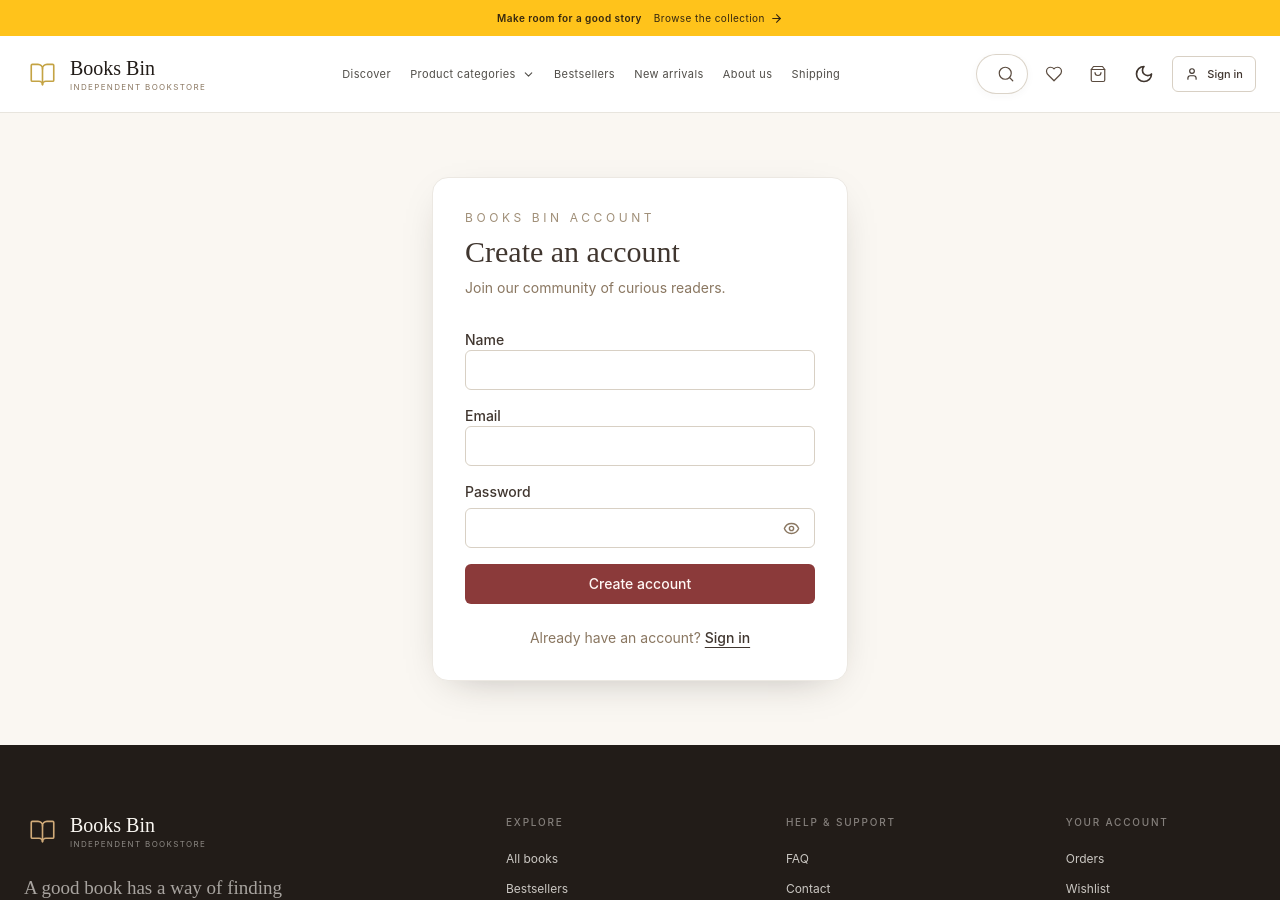
it: account registration and sign-in screens › does not carry registration verification state into the sign-in page
Expected: the heading "Create an account" is shown, [465, 235, 680, 268]
Type "Reader One" into the field labelled "Name" at (640, 370), box [465, 350, 815, 390]
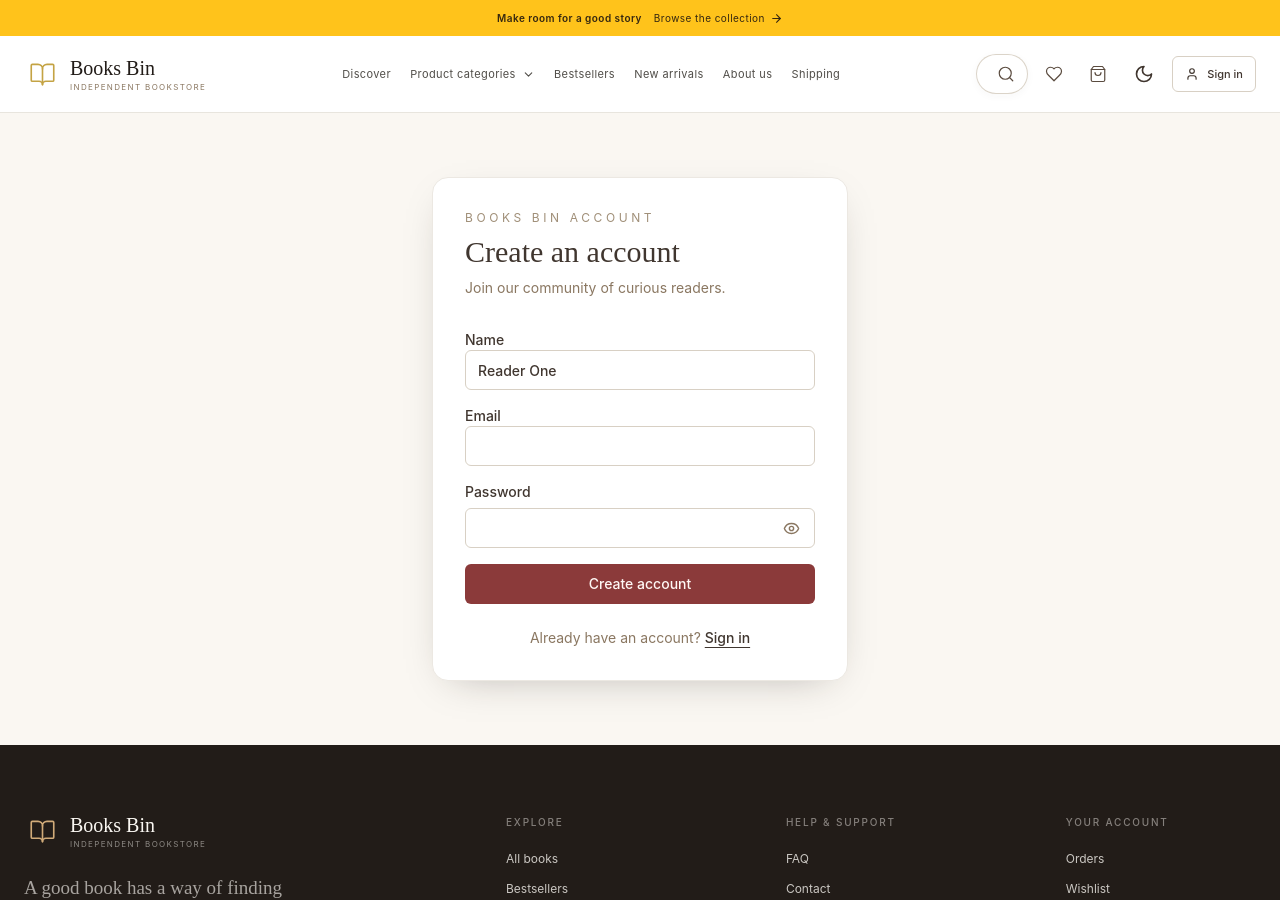
Type "reader@example.com" into the field labelled "Email" at (640, 446), box [465, 426, 815, 466]
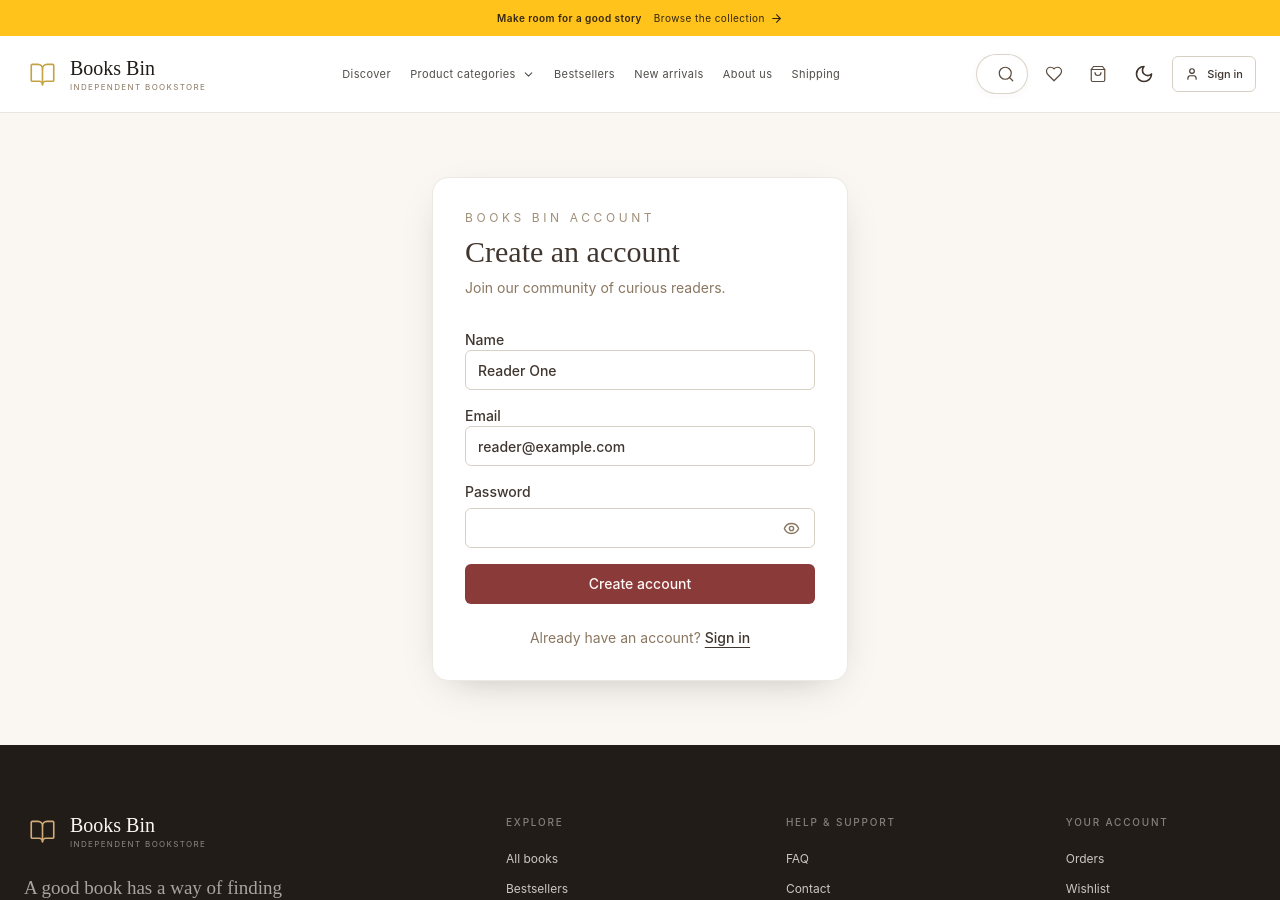
Type "reader-password" into the password field labelled "Password" at (640, 528), box [465, 508, 815, 548]
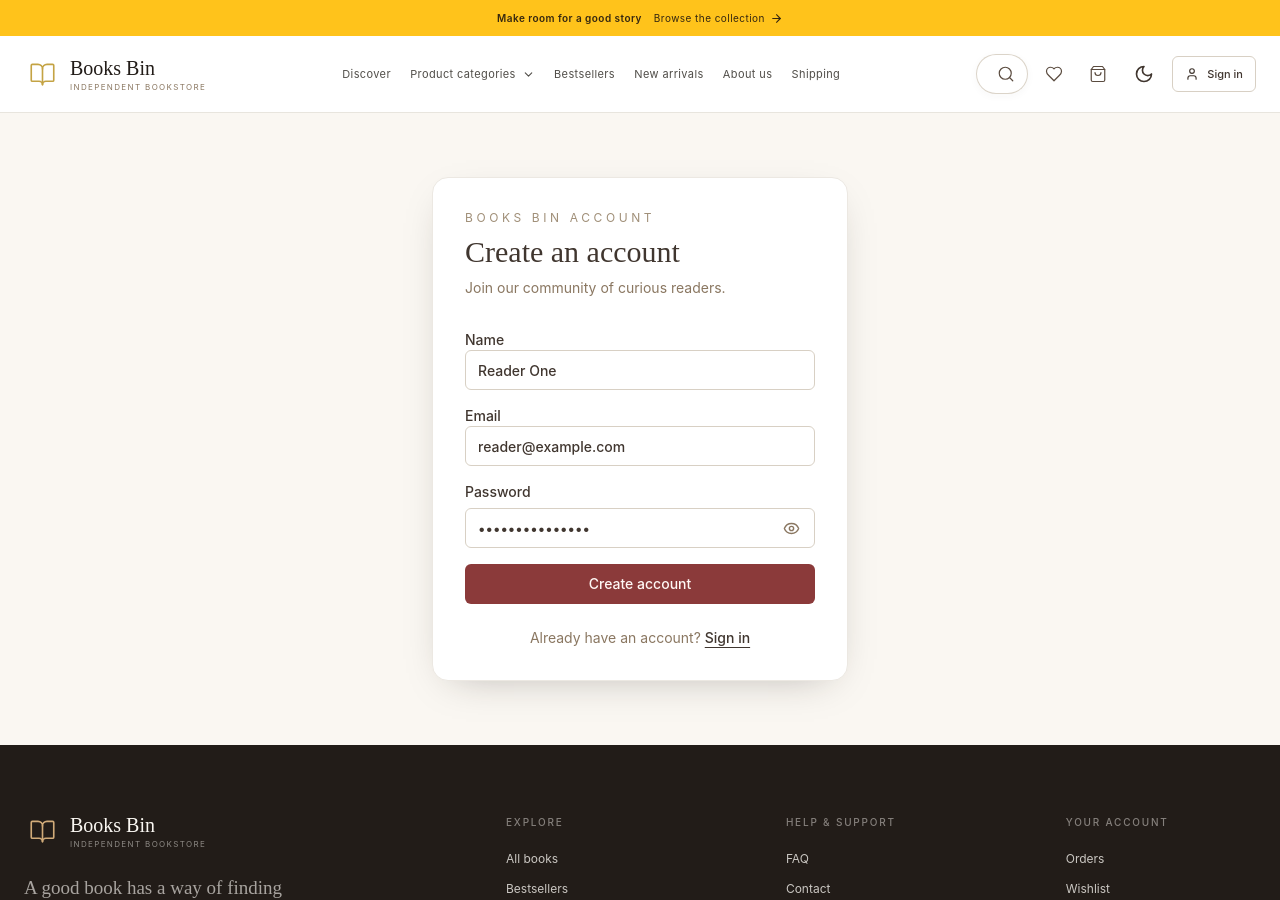
Click the button "Create account" at (640, 584), box [465, 564, 815, 604]
(page scrolled)
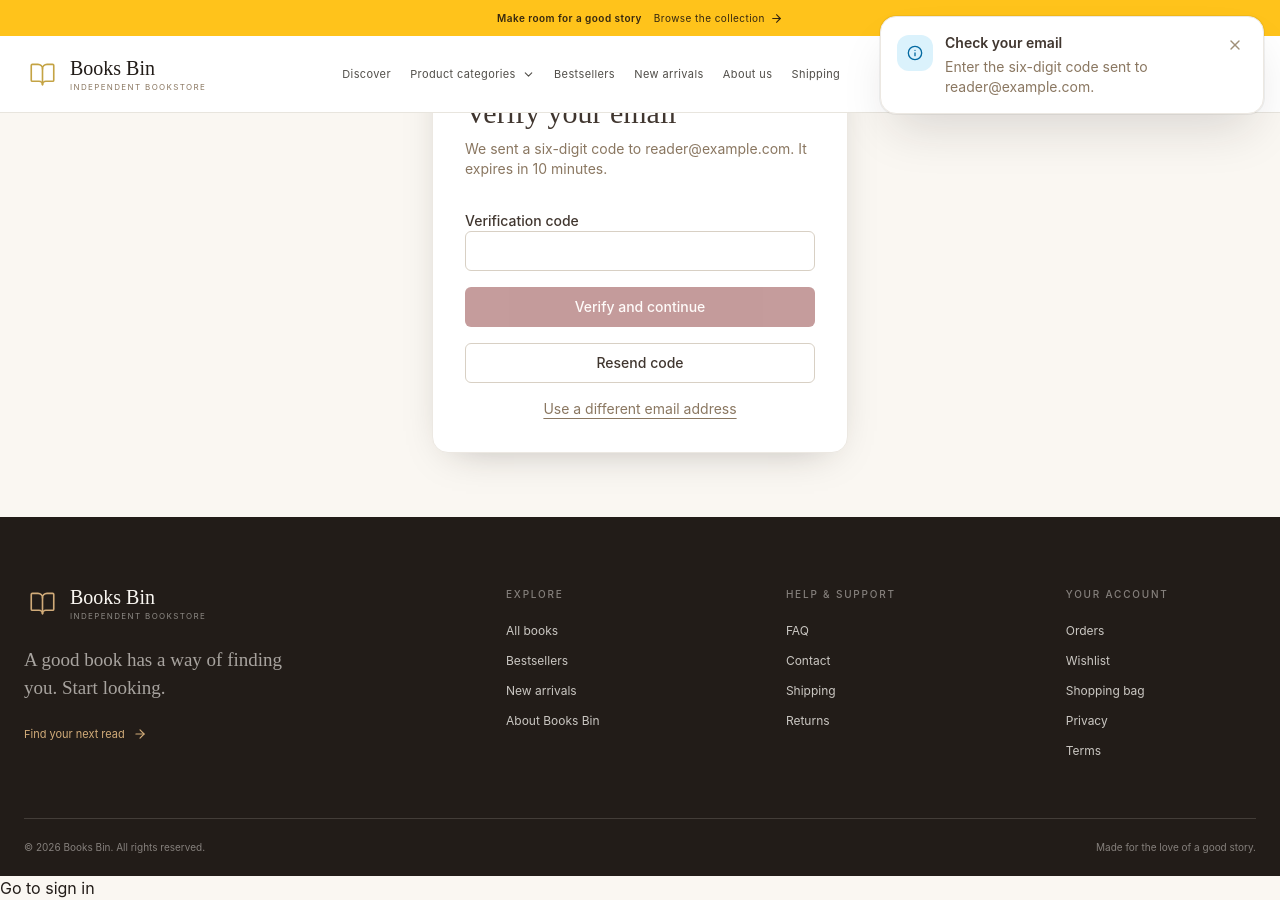
Expected: the heading "Verify your email" is shown, [465, 96, 677, 129]
Click the link "Go to sign in" at (47, 888), box [0, 878, 95, 898]
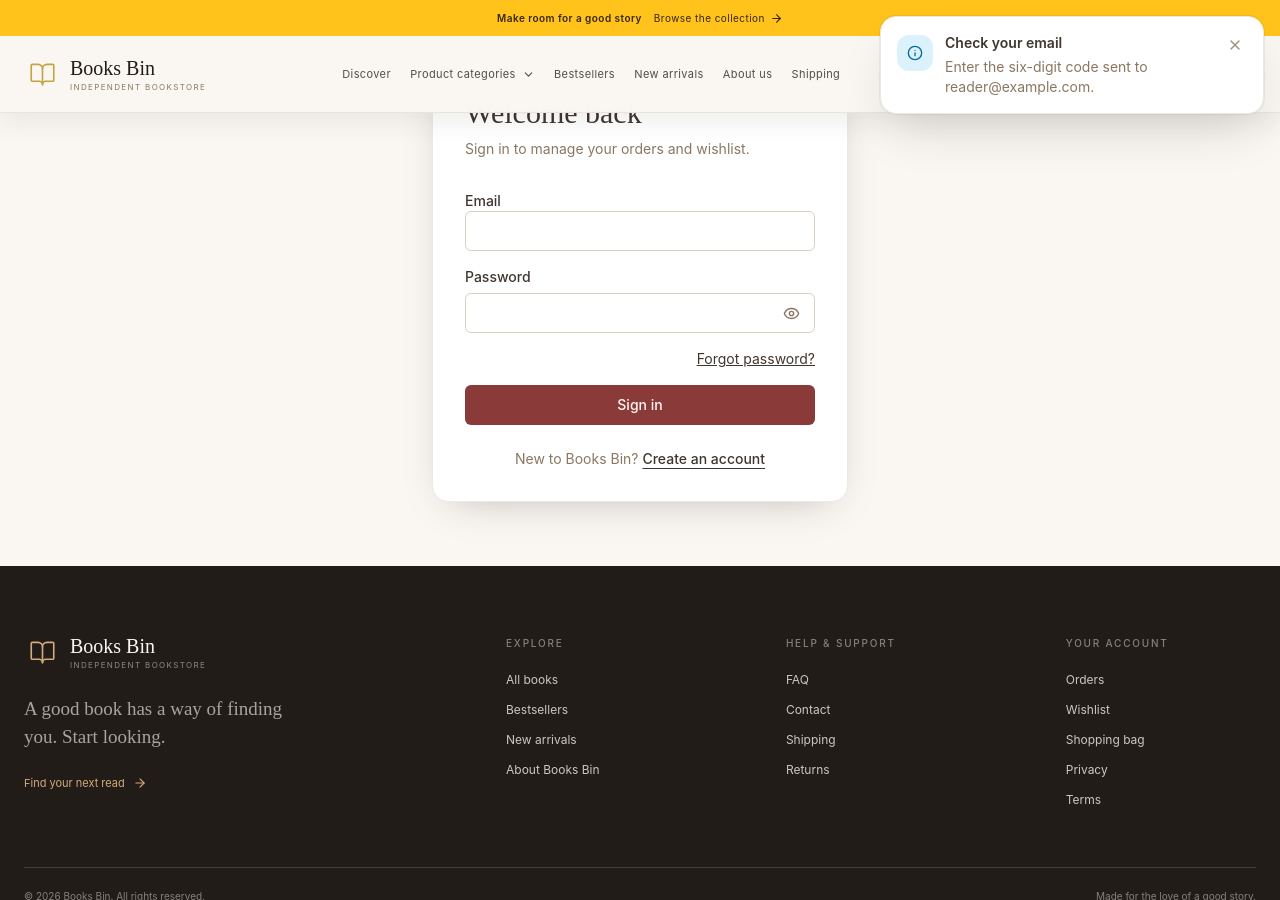
Expected: the heading "Welcome back" is shown, [465, 96, 642, 129]
Expected: the label labelled "Verification code" is gone
